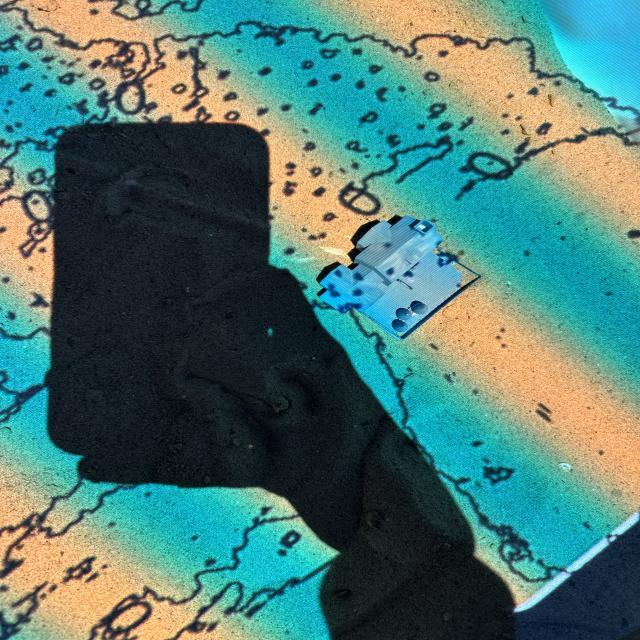house: (316, 212, 480, 340)
